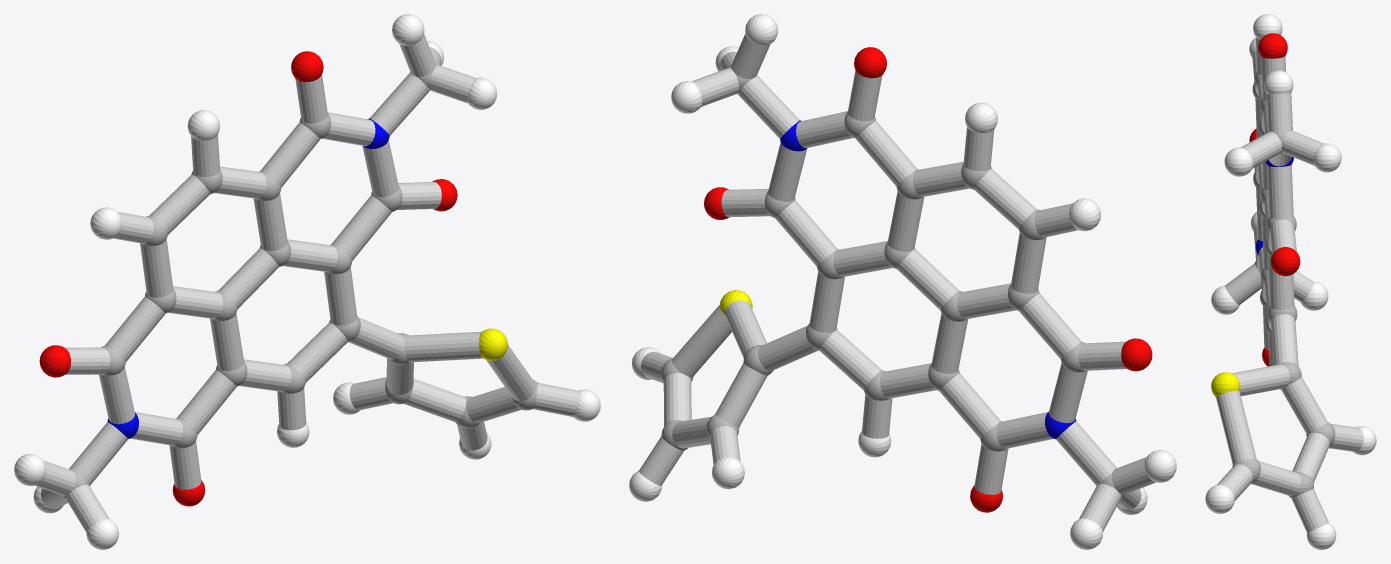
Rendered from Dimethyl_Naphthalene_Dicarboximide_Phi_10_Theta_230_Thiophene.glb.
3 renders of one model, left to right at view 1: azimuth 30°, elevation 25°; view 2: azimuth 150°, elevation 25°; view 3: azimuth 270°, elevation 25°, orthographic. The views are drawn at different scales.
Parts seen in each view (by area): view 1: grp14119, grp7241, grp1, grp12309, grp13757, grp11585; view 2: grp14119, grp7241, grp1, grp12309, grp11585; view 3: grp14119, grp7241, grp1, grp12309, grp13757.
Part boxes in pixels (x1,y1,x2,y2): grp14119: (35, 34, 578, 532); grp7241: (14, 14, 600, 549); grp1: (60, 62, 537, 499); grp12309: (39, 51, 457, 506); grp13757: (479, 328, 507, 360); grp11585: (107, 118, 389, 438); grp14119: (639, 33, 1155, 531); grp7241: (629, 14, 1176, 549); grp1: (661, 64, 1126, 498); grp12309: (704, 47, 1152, 512); grp11585: (780, 120, 1076, 439); grp14119: (1216, 37, 1363, 532); grp7241: (1205, 14, 1376, 549); grp1: (1232, 72, 1335, 498); grp12309: (1249, 33, 1300, 366); grp13757: (1211, 372, 1240, 396).
Bounding box in the file's own units: 11.87 × 9.81 × 3.48.
